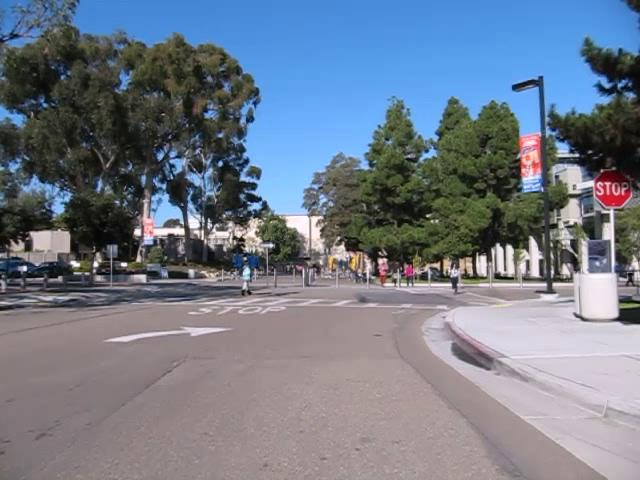stop: (592, 167, 633, 208)
